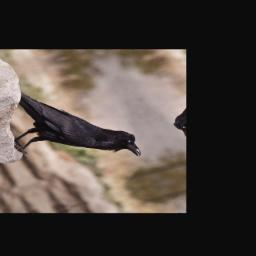Crow: (0, 72, 151, 182)
